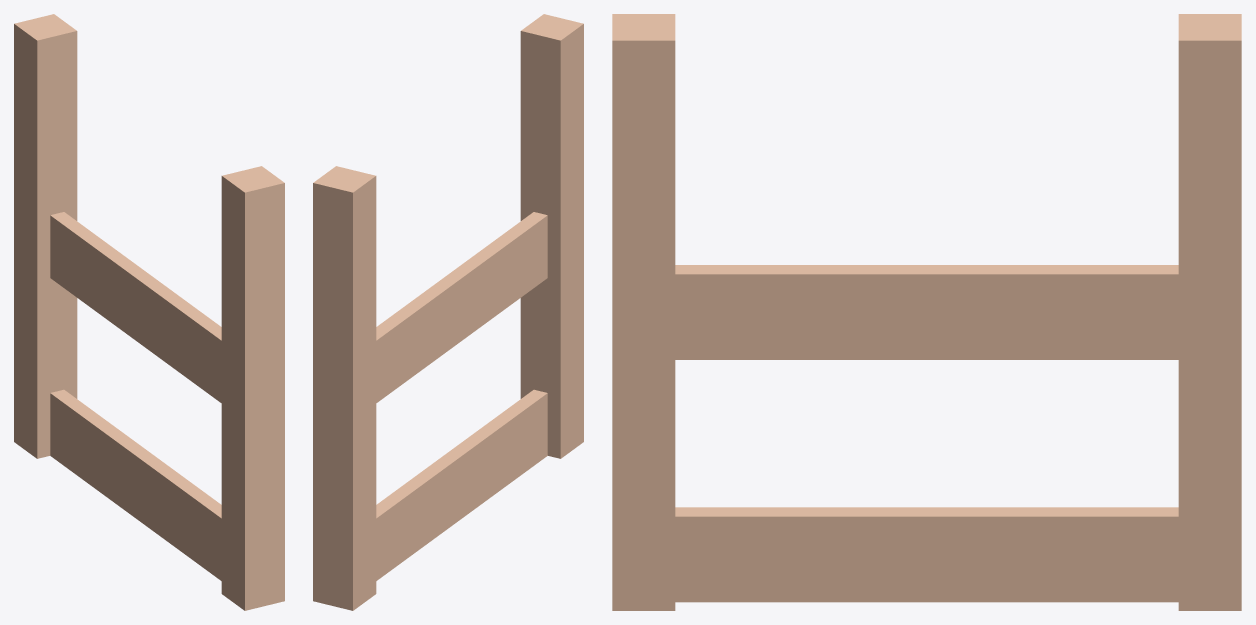
3 renders of one model, left to right at view 1: azimuth 30°, elevation 25°; view 2: azimuth 150°, elevation 25°; view 3: azimuth 270°, elevation 25°, orthographic. The views are drawn at different scales.
Parts seen in each view (by area): view 1: polesHorizontal; view 2: polesHorizontal; view 3: polesHorizontal.
Part boxes in pixels (left/top/right/bottom): polesHorizontal: left=14, top=14, right=284, bottom=610; polesHorizontal: left=313, top=14, right=583, bottom=610; polesHorizontal: left=612, top=14, right=1241, bottom=610.
Bounding box in the file's own units: 0.1 × 1 × 1.
